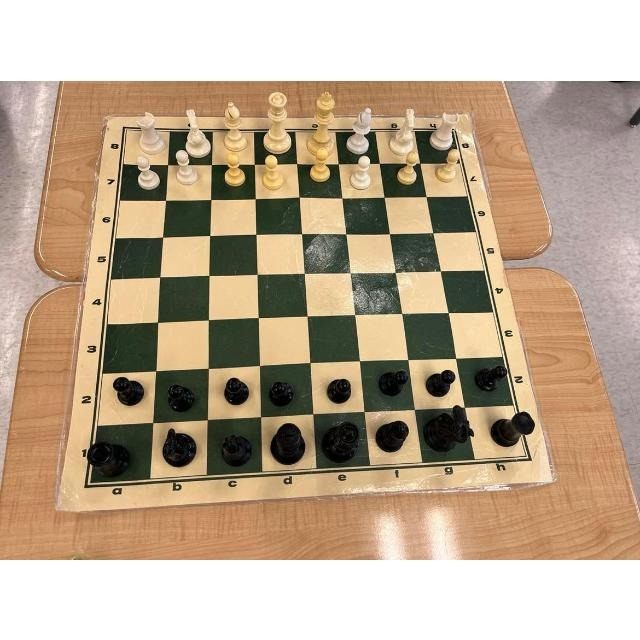black-bishop: (371, 415, 413, 455), (217, 427, 255, 471)
black-king: (268, 419, 310, 469)
black-knight: (420, 404, 477, 456), (159, 424, 201, 470)
black-pawn: (105, 372, 149, 407), (376, 366, 411, 402), (474, 361, 511, 395), (265, 375, 299, 409), (423, 368, 459, 400), (164, 380, 197, 414), (220, 373, 253, 406), (324, 374, 356, 405)
black-queen: (318, 415, 366, 467)
black-rook: (485, 405, 539, 451), (82, 434, 137, 479)
white-bishop: (346, 106, 378, 156), (221, 98, 249, 152)
white-king: (308, 87, 344, 157)
white-knight: (178, 106, 214, 158), (388, 105, 416, 153)
white-pawn: (169, 147, 203, 189), (130, 151, 163, 192), (348, 150, 378, 193), (433, 143, 464, 184), (220, 148, 250, 188), (260, 152, 287, 192), (308, 144, 335, 184), (395, 147, 421, 187)
white-queen: (262, 87, 298, 155)
white-rook: (134, 110, 170, 156), (425, 108, 460, 152)
